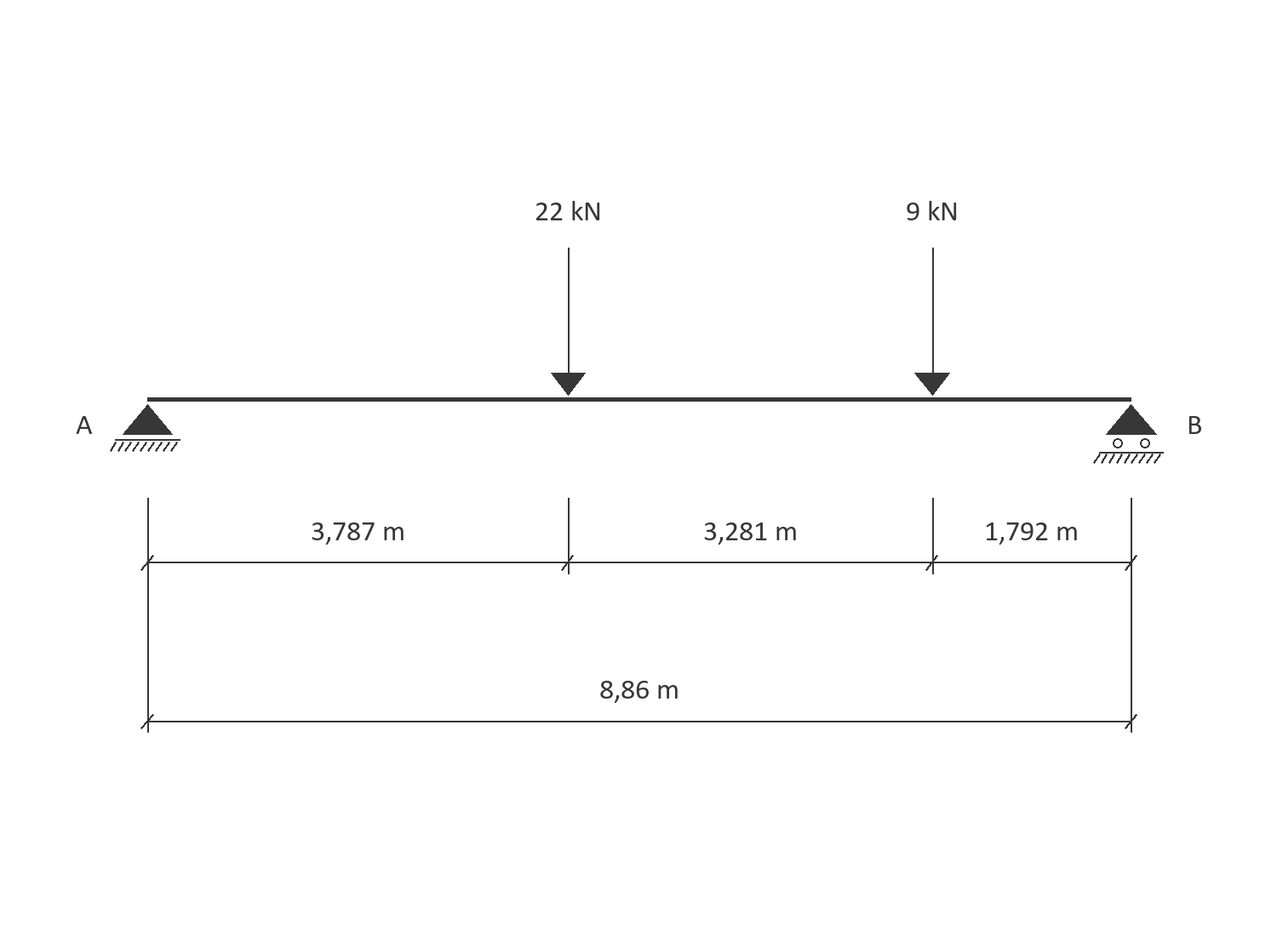pin_support: (110, 404, 180, 452)
point_load: (914, 248, 950, 396), (551, 248, 586, 396)
roller_support: (1093, 404, 1164, 464)
